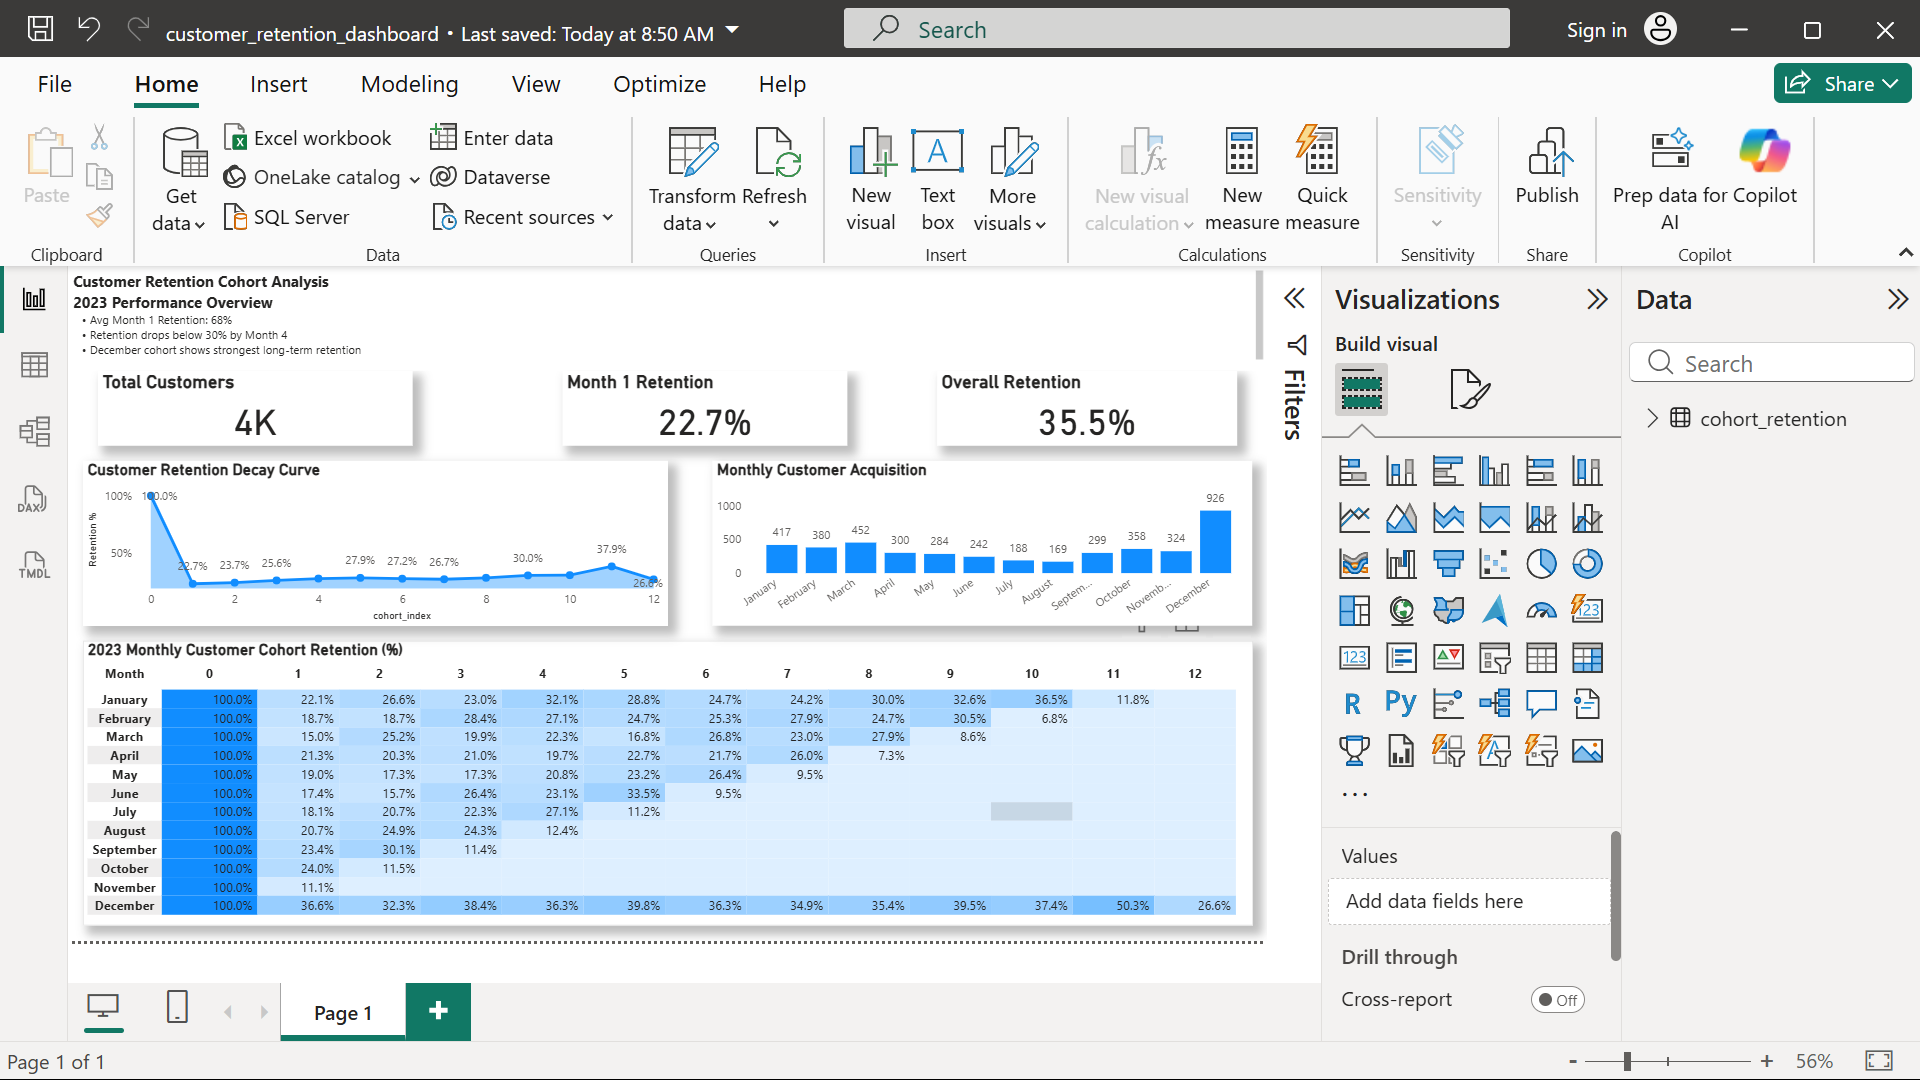

What the dashboard file says about the page in this screenshot:
{"tool":"powerbi","page":{"name":"Page 1","canvas":[1280,720],"ordinal":0},"visuals":[{"type":"pivotTable","title":"2023 Monthly Customer Cohort Retention (%)","fields":{"Rows":["cohort_retention.cohort_month.Variation.Date Hierarchy.Month"],"Columns":["cohort_retention.cohort_index"],"Values":["cohort_retention.Retention %"]},"box":[16,400,1248,304],"z":0},{"type":"card","title":"Month 1 Retention","fields":{"Values":["cohort_retention.Month 1 Retention %"]},"box":[528,112,304,80],"z":1000},{"type":"card","title":"Overall Retention","fields":{"Values":["cohort_retention.OverallRetention"]},"box":[928,112,320,80],"z":2000},{"type":"card","title":"Total Customers","fields":{"Values":["cohort_retention.TotalCustomers"]},"box":[32,112,336,80],"z":3000},{"type":"lineChart","title":"Customer Retention Decay Curve","fields":{"Category":["cohort_retention.cohort_index"],"Y":["cohort_retention.Retention %"]},"box":[16,208,624,176],"z":4000},{"type":"clusteredColumnChart","title":"Monthly Customer Acquisition","fields":{"Category":["cohort_retention.cohort_month.Variation.Date Hierarchy.Month"],"Y":["cohort_retention.TotalCustomers"]},"box":[688,208,576,176],"z":5000},{"type":"textbox","box":[0,0,1280,112],"z":6000}]}

Visuals, with their boxes on the page's 1280x720 design canvas (x1, y1, x2, y2). These are canvas units, not pixel positions in the 1920x1080 screenshot, which may show the page scaled, cropped or inside an application window:
"2023 Monthly Customer Cohort Retention (%)" pivotTable: (x1=16, y1=400, x2=1264, y2=704)
"Month 1 Retention" card: (x1=528, y1=112, x2=832, y2=192)
"Overall Retention" card: (x1=928, y1=112, x2=1248, y2=192)
"Total Customers" card: (x1=32, y1=112, x2=368, y2=192)
"Customer Retention Decay Curve" lineChart: (x1=16, y1=208, x2=640, y2=384)
"Monthly Customer Acquisition" clusteredColumnChart: (x1=688, y1=208, x2=1264, y2=384)
textbox: (x1=0, y1=0, x2=1280, y2=112)
